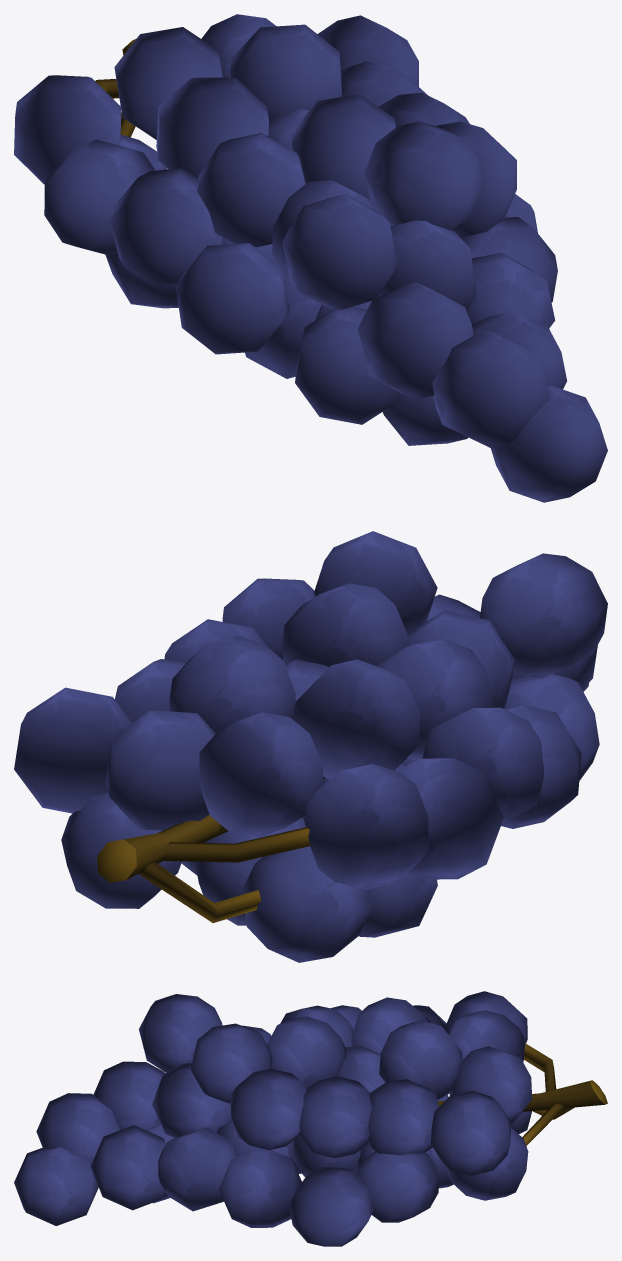
Rendered from Grapes_04.fbx.
3 renders of one model, top to bottom at view 1: azimuth 30°, elevation 25°; view 2: azimuth 150°, elevation 25°; view 3: azimuth 270°, elevation 25°, orthographic. The views are drawn at different scales.
Parts seen in each view (by area): view 1: Grapes_04; view 2: Grapes_04; view 3: Grapes_04.
Part boxes in pixels (<box>): Grapes_04: <box>14,14,607,502</box>; Grapes_04: <box>14,531,607,962</box>; Grapes_04: <box>14,991,607,1246</box>.
Size of the model in its own units: 36.6 by 23.31 by 63.95.
Materials: 1 (1 with a texture image).
